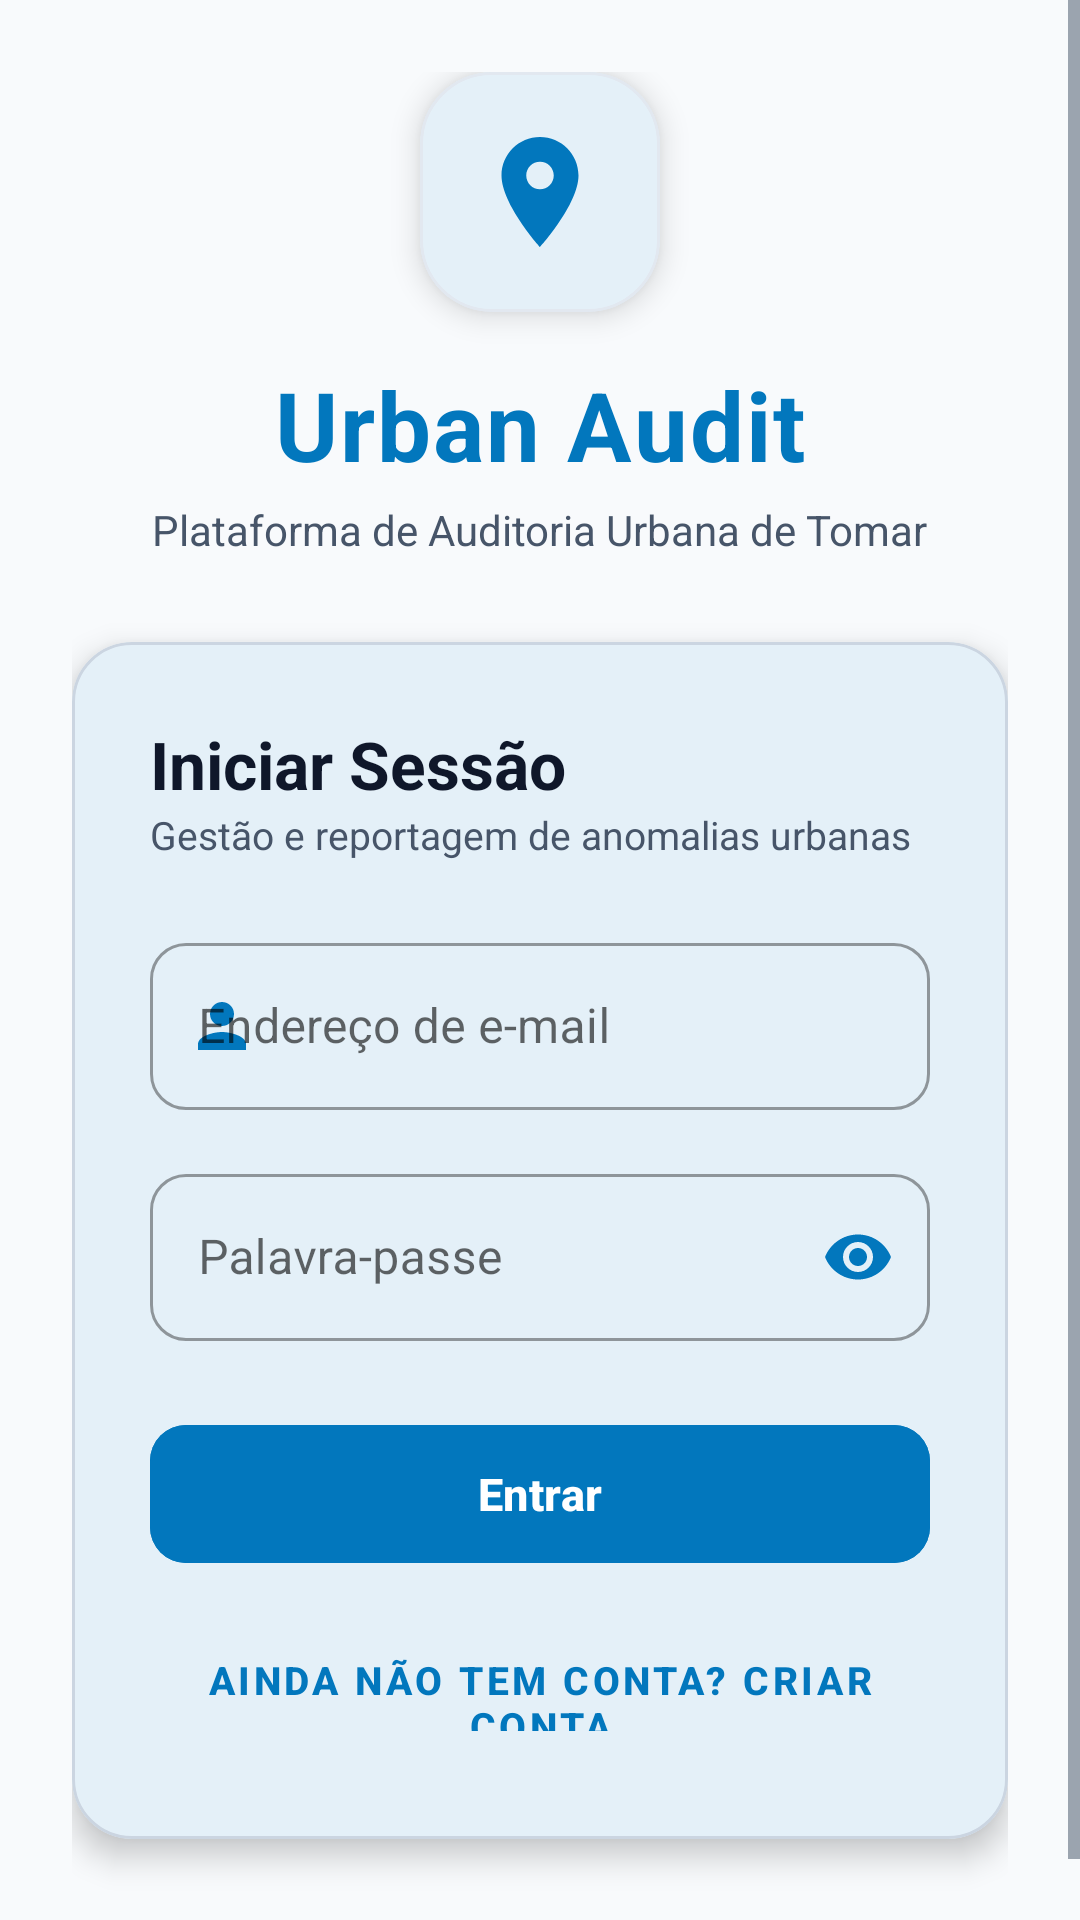

Point at icon controls on the screen. Image size 1080 × 1920, points as (x,y).
location: (540,192)
